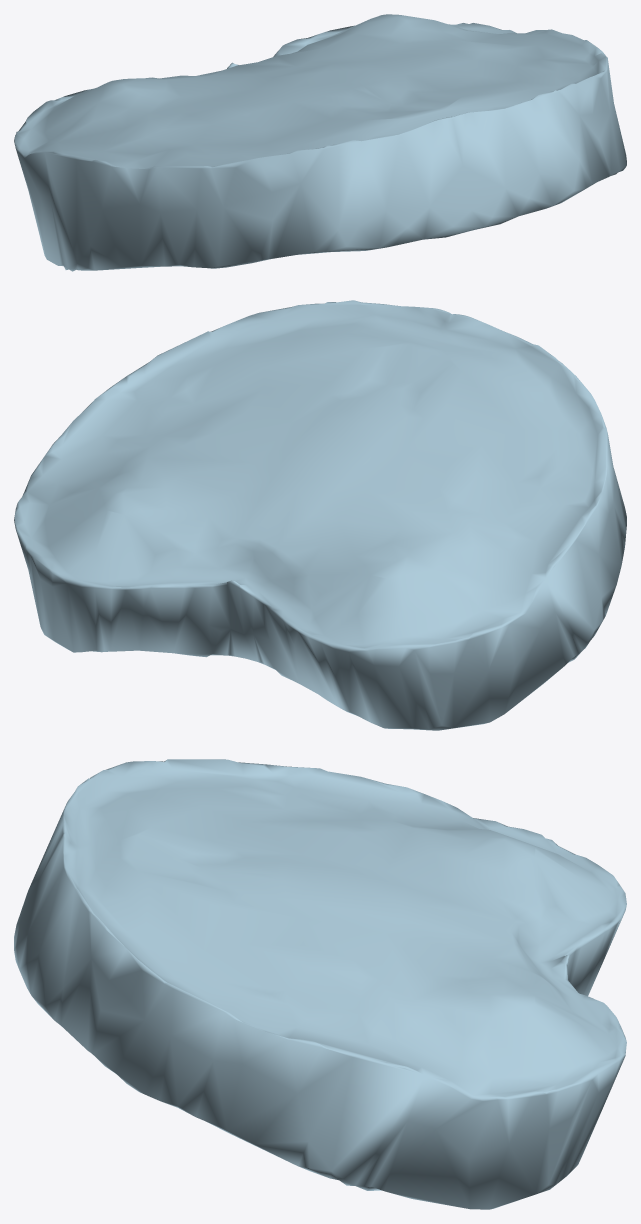
The model's file is articulacoes-intervertebral-disc-t12-l1.glb.
3 renders of one model, top to bottom at view 1: azimuth 30°, elevation 25°; view 2: azimuth 150°, elevation 25°; view 3: azimuth 270°, elevation 25°, orthographic. The views are drawn at different scales.
Visible parts, largest first — view 1: Intervertebral disc T12-L1; view 2: Intervertebral disc T12-L1; view 3: Intervertebral disc T12-L1.
Part boxes in pixels (x1,y1,x2,y2): Intervertebral disc T12-L1: (14,14,626,271); Intervertebral disc T12-L1: (14,300,626,730); Intervertebral disc T12-L1: (14,759,626,1209).
Bounding box in the file's own units: 0.0445 × 0.0182 × 0.0397.
